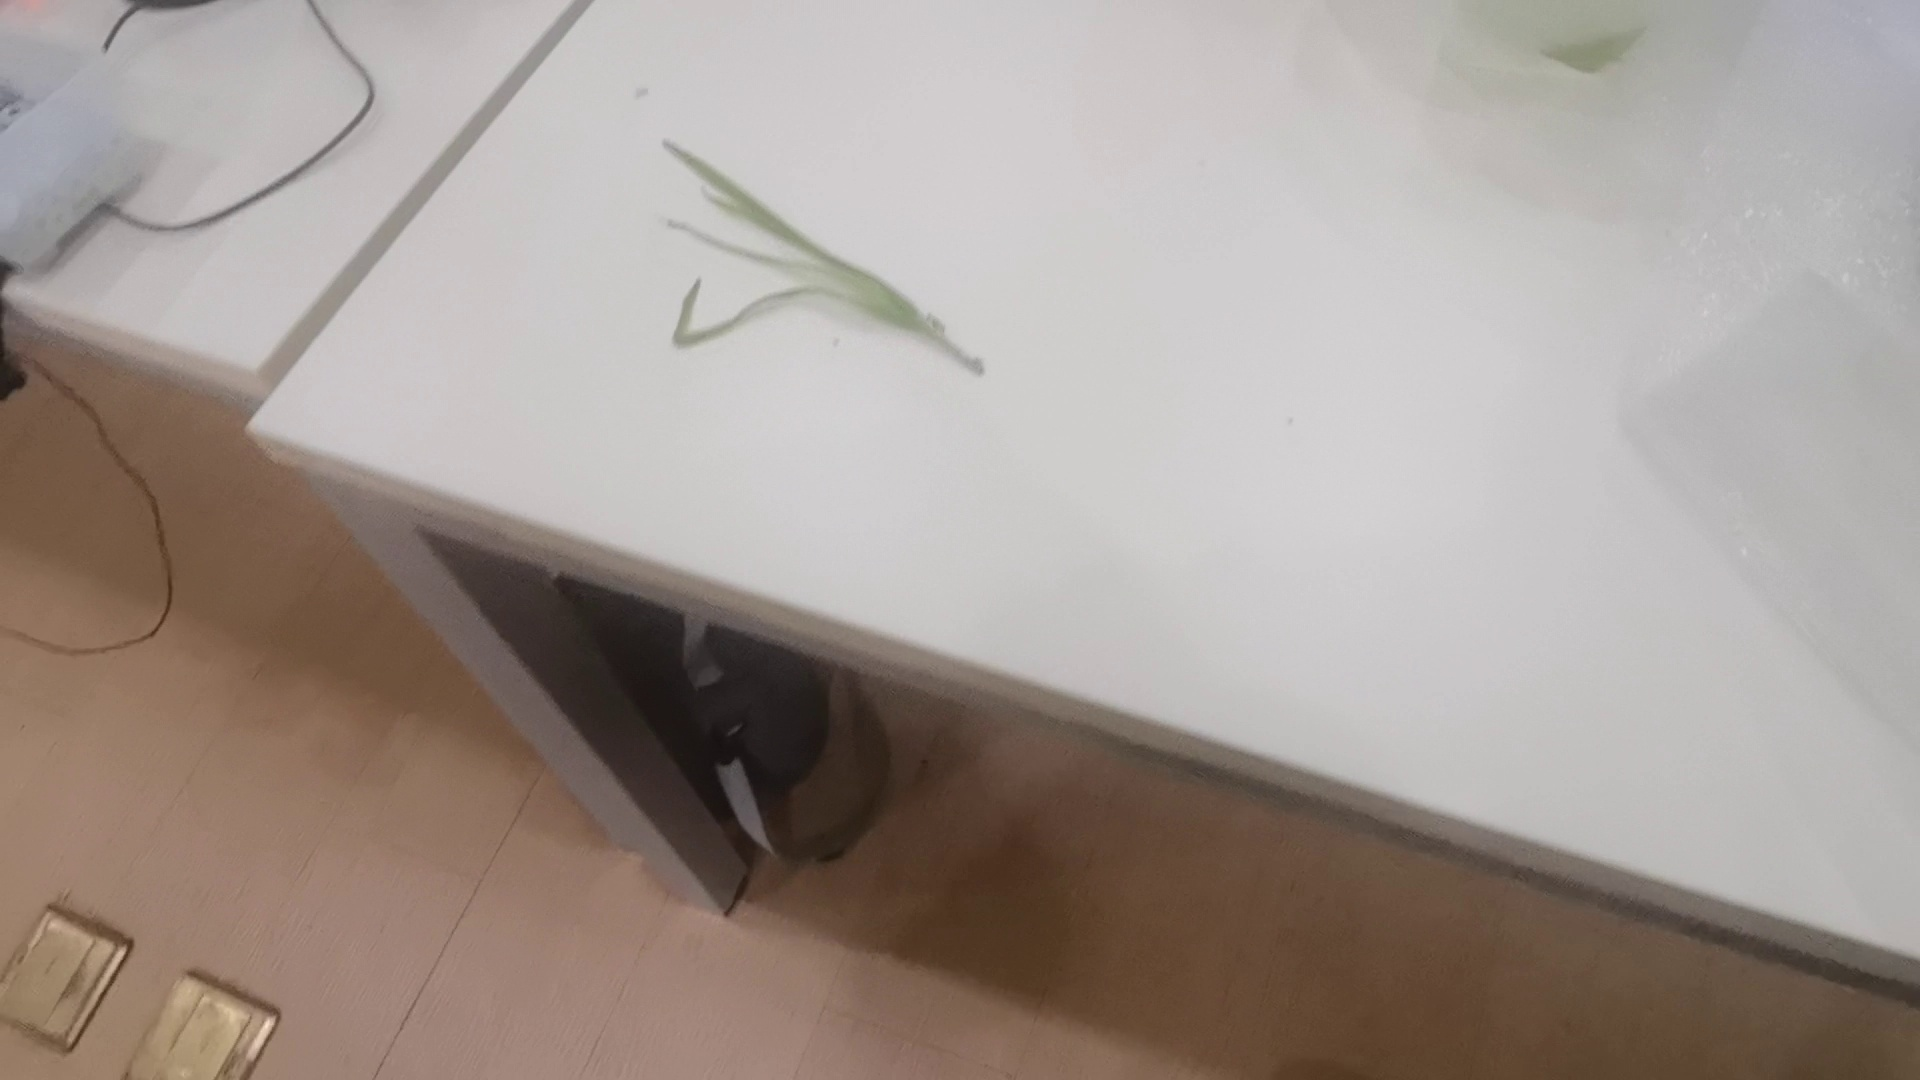chives: (641, 133, 992, 373)
